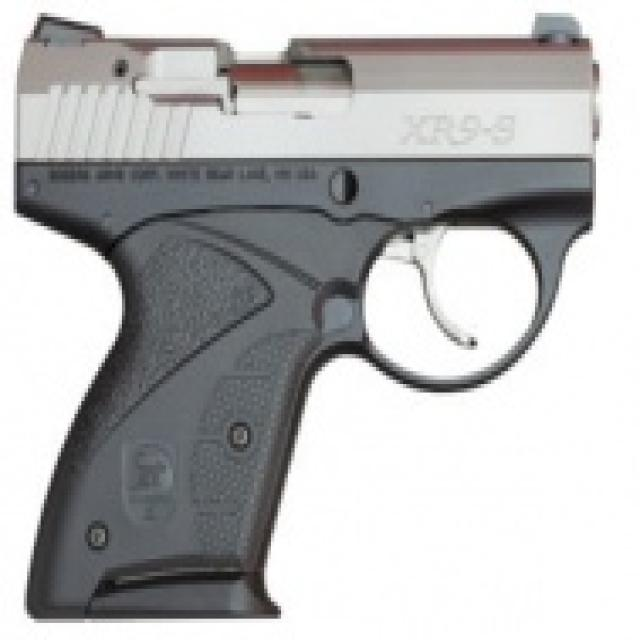pistol: (3, 1, 631, 640)
